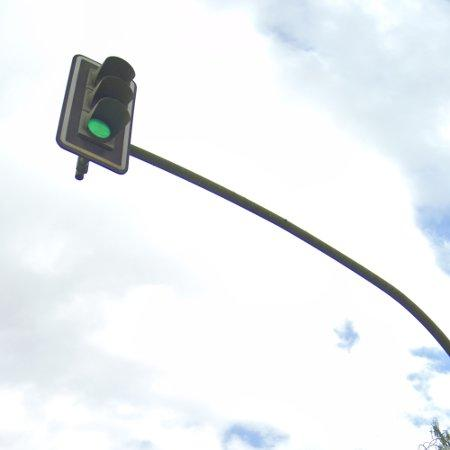traffic lights: (56, 55, 137, 180)
